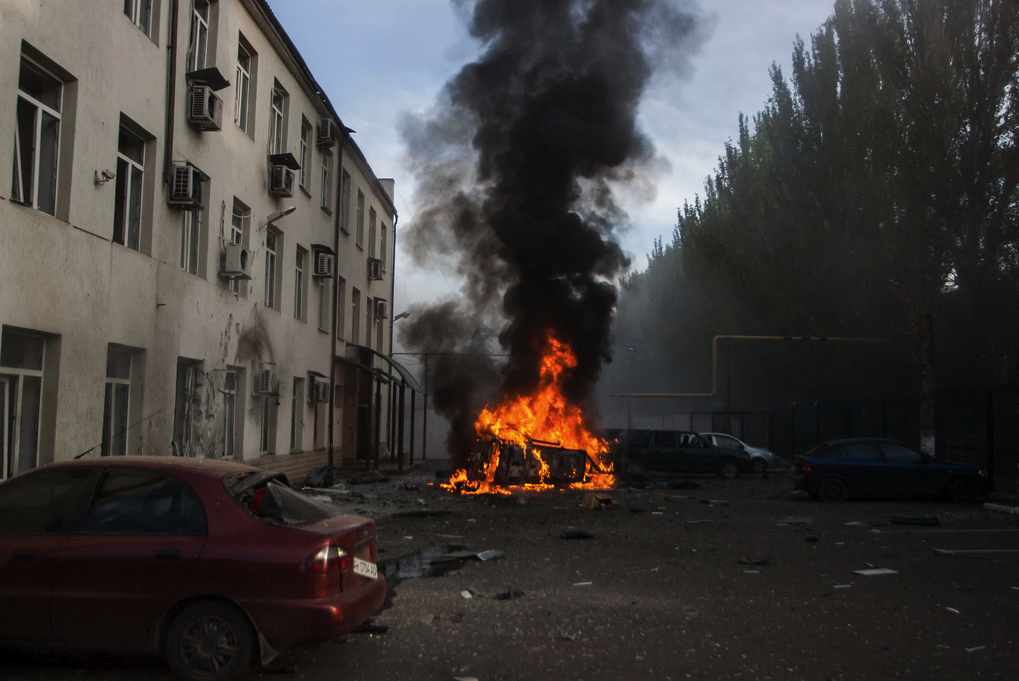fire: (471, 356, 608, 498)
